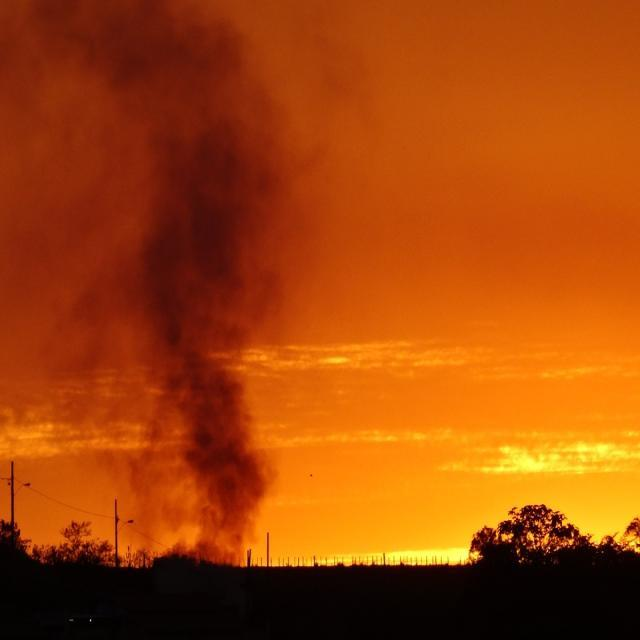Smoke: (0, 0, 282, 567)
